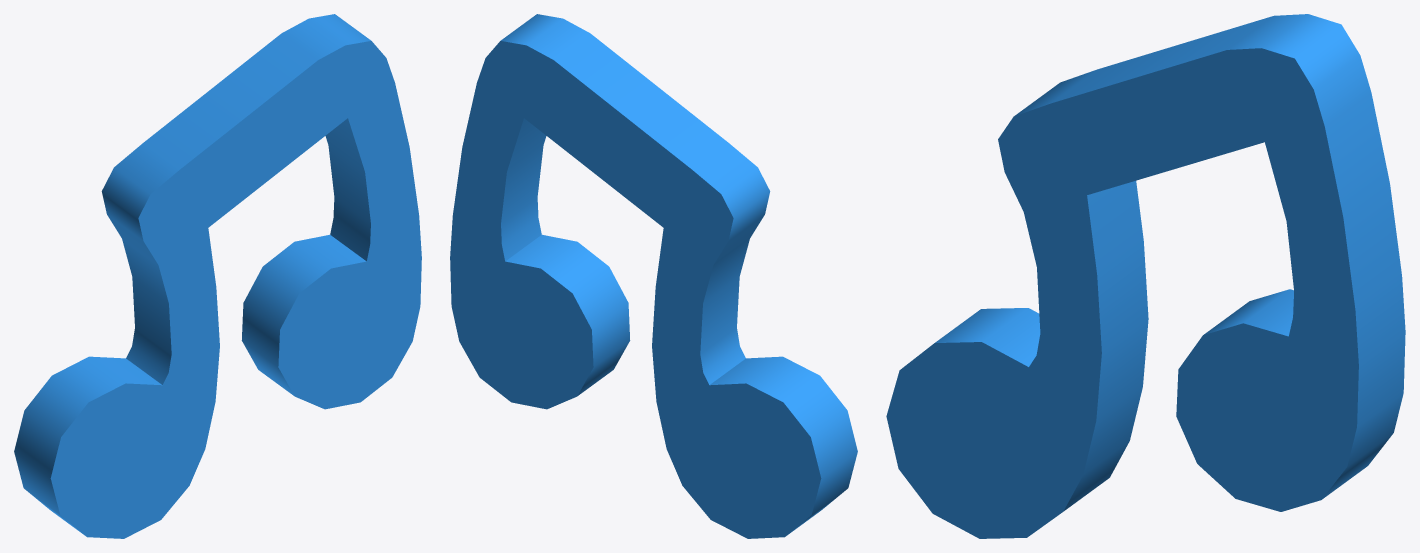
File: SingleBarNote.FBX
3 views of the same model, side by side, from view 1: azimuth 30°, elevation 25°; view 2: azimuth 150°, elevation 25°; view 3: azimuth 330°, elevation 25° (orthographic). The views are drawn at different scales.
Parts seen in each view (by area): view 1: SingleBarNote; view 2: SingleBarNote; view 3: SingleBarNote.
Part boxes in pixels (x1=…): SingleBarNote: x1=14, y1=14, x2=421, y2=538; SingleBarNote: x1=450, y1=14, x2=857, y2=538; SingleBarNote: x1=886, y1=14, x2=1405, y2=538.
Size of the model in its own units: 81.88 by 92.65 by 14.
